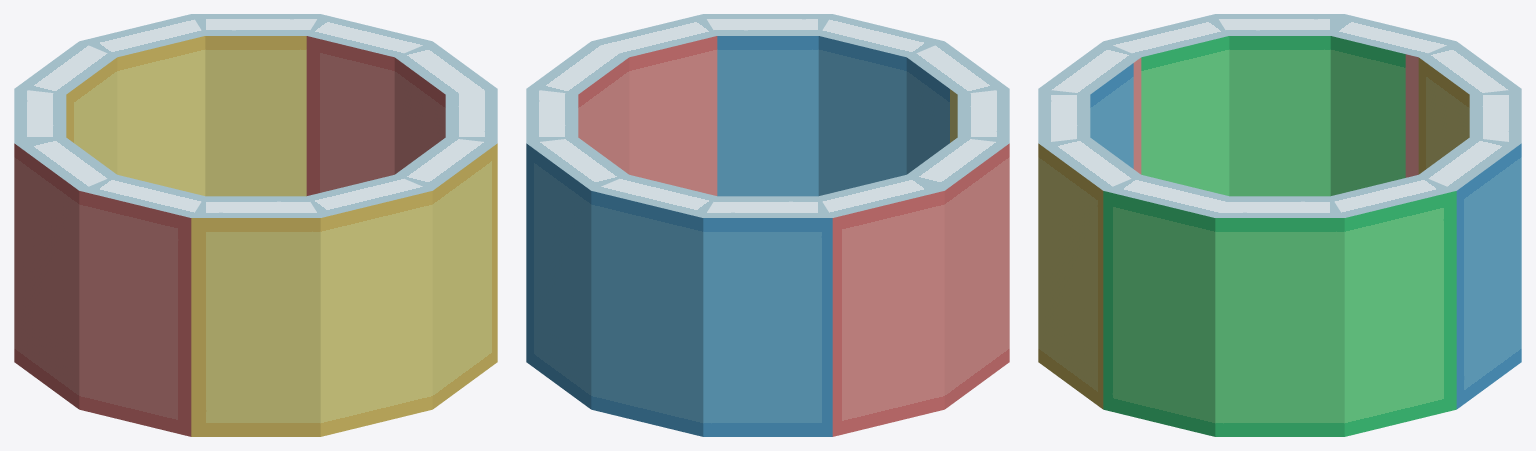
Rendered from putosvertices.gltf.
The picture shows the model from 3 angles, left to right: view 1: azimuth 30°, elevation 25°; view 2: azimuth 150°, elevation 25°; view 3: azimuth 270°, elevation 25°; orthographic projection.
Parts seen in each view (by area): view 1: tube; view 2: tube; view 3: tube.
Part boxes in pixels (box(x1,y1,x2,y2)): tube: box(14, 14, 497, 436); tube: box(526, 14, 1009, 436); tube: box(1038, 14, 1521, 436).
Bounding box in the file's own units: 1 × 0.5 × 1.
Materials: 1 (1 with a texture image).
